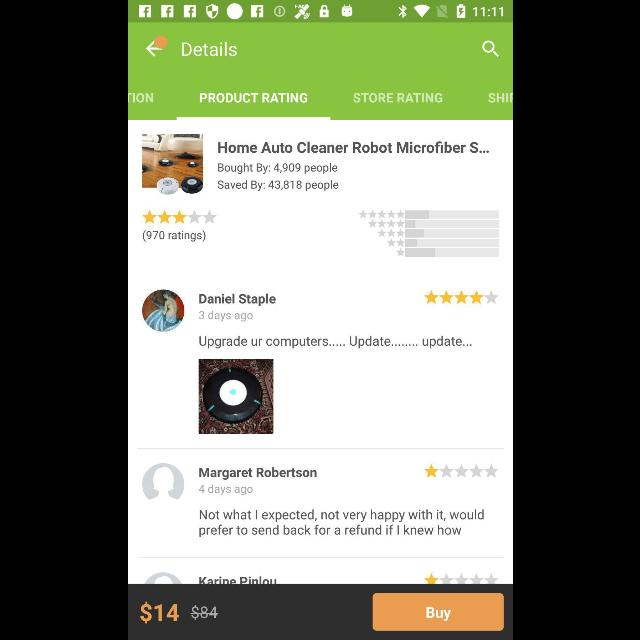icon: (142, 464, 184, 501), (424, 290, 498, 306), (423, 464, 499, 478), (142, 210, 216, 224), (424, 572, 498, 584), (145, 36, 167, 58), (358, 210, 404, 218), (368, 220, 404, 228), (482, 41, 498, 58), (376, 229, 404, 237), (386, 239, 404, 247), (396, 249, 404, 257)
image: (198, 360, 272, 434), (142, 134, 202, 194), (142, 290, 184, 332), (142, 572, 182, 584)
text: (198, 509, 484, 537), (199, 336, 471, 348), (217, 142, 488, 154), (198, 466, 316, 479), (218, 180, 338, 192), (218, 163, 336, 174), (199, 93, 307, 103), (198, 294, 276, 306), (140, 600, 178, 624), (352, 93, 442, 103), (181, 42, 237, 58), (198, 574, 276, 584), (142, 230, 204, 242), (198, 484, 252, 496), (198, 310, 252, 322), (189, 604, 217, 620), (488, 93, 512, 103), (128, 93, 152, 103)
textbutton: (372, 593, 502, 631)
uppertaskbar: (128, 1, 512, 23)
